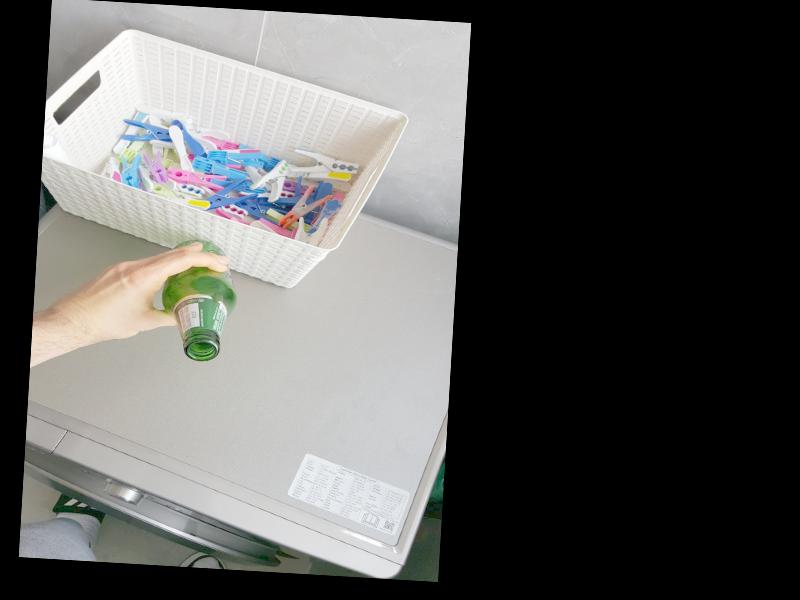Beer: (158, 238, 239, 363)
